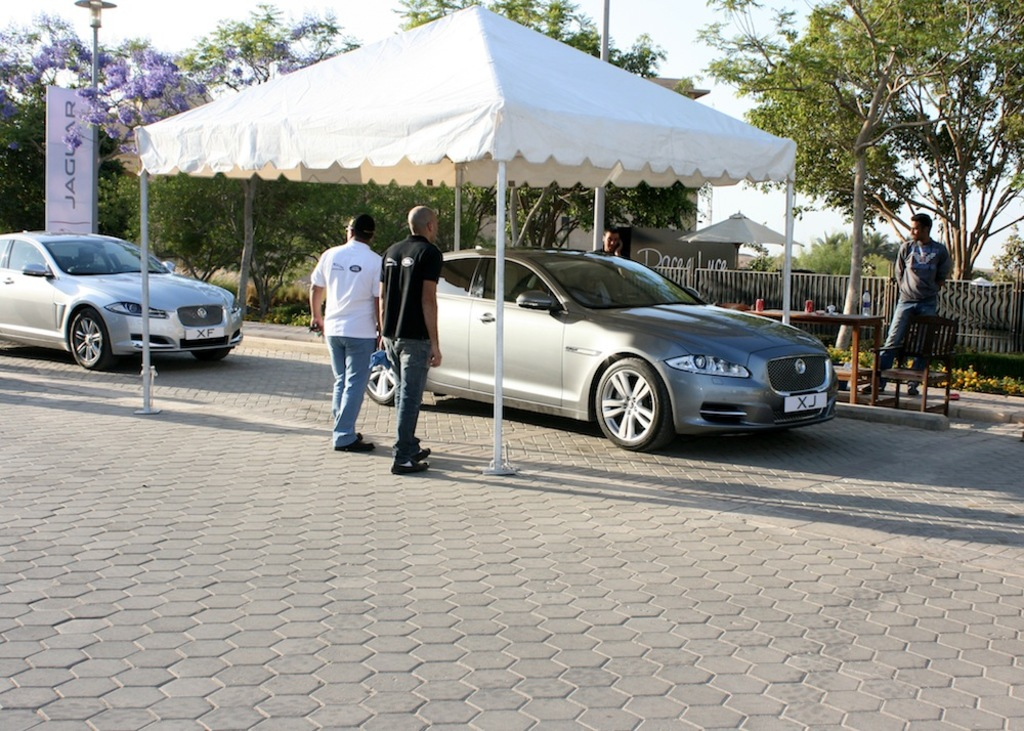Car: (359, 249, 842, 448), (5, 225, 242, 367)
